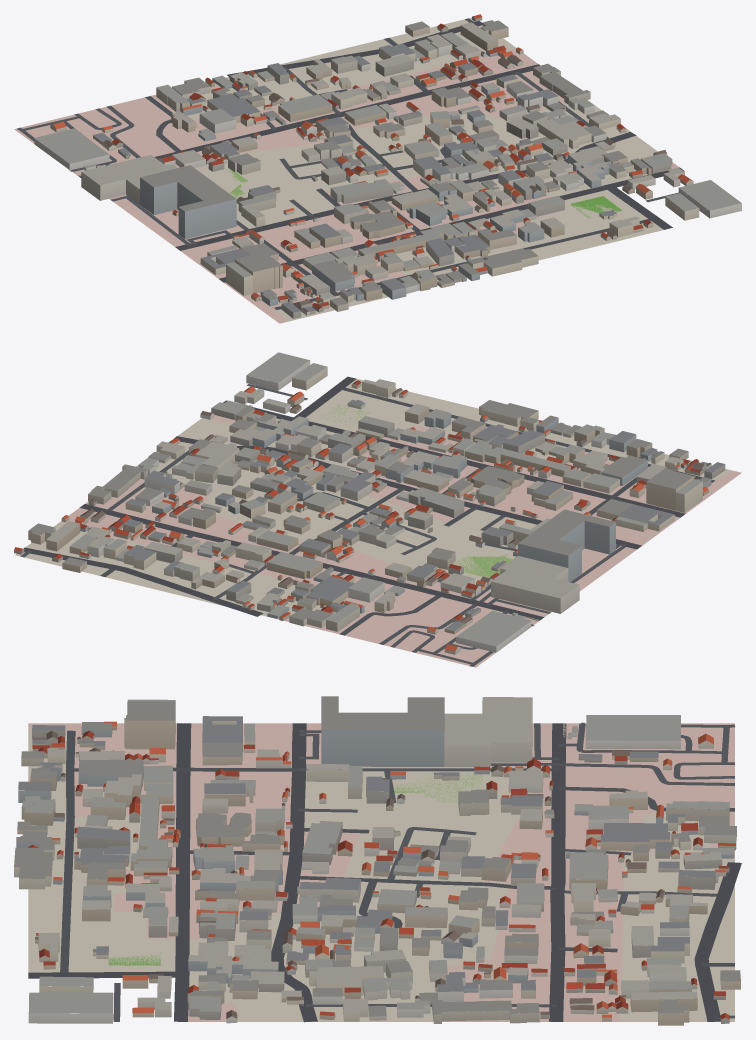
The picture shows the model from 3 angles, top to bottom: view 1: azimuth 30°, elevation 25°; view 2: azimuth 150°, elevation 25°; view 3: azimuth 270°, elevation 25°; orthographic projection. The views are drawn at different scales.
Visible parts, largest first — view 1: buildings_roofs, buildings_walls, landuse, roads; view 2: buildings_roofs, buildings_walls, landuse, roads; view 3: buildings_roofs, landuse, buildings_walls, roads.
Boxes of the visible parts, x1=… form: buildings_roofs: x1=34, y1=14, x2=741, y2=312; buildings_walls: x1=34, y1=16, x2=741, y2=318; landuse: x1=14, y1=17, x2=679, y2=323; roads: x1=17, y1=18, x2=684, y2=309; buildings_roofs: x1=14, y1=352, x2=724, y2=651; buildings_walls: x1=14, y1=360, x2=725, y2=654; landuse: x1=15, y1=379, x2=741, y2=667; roads: x1=20, y1=376, x2=714, y2=666; buildings_roofs: x1=14, y1=696, x2=740, y2=1019; landuse: x1=28, y1=723, x2=734, y2=1021; buildings_walls: x1=14, y1=698, x2=740, y2=1025; roads: x1=28, y1=722, x2=741, y2=1022.
Bounding box in the file's own units: 515 × 28.82 × 515.
